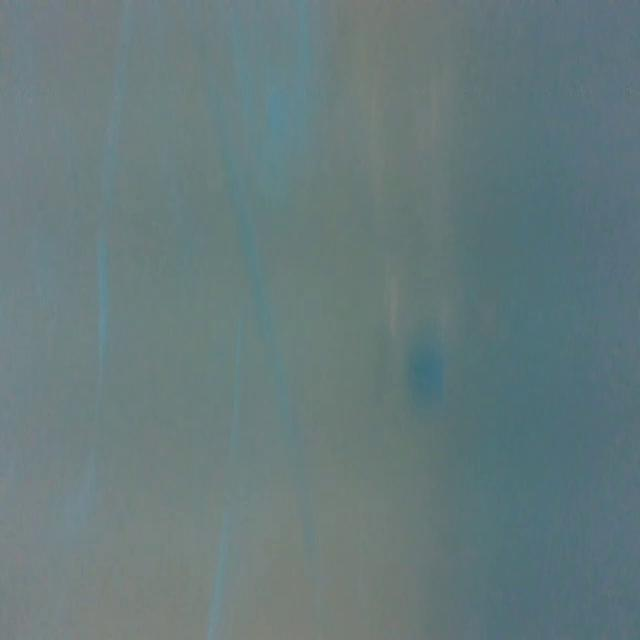plastic bottle: (365, 176, 459, 401)
